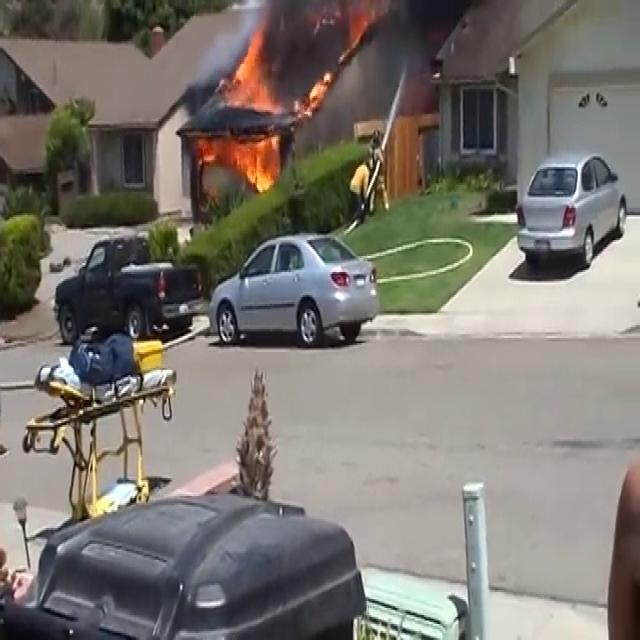Fire: (224, 30, 284, 196)
